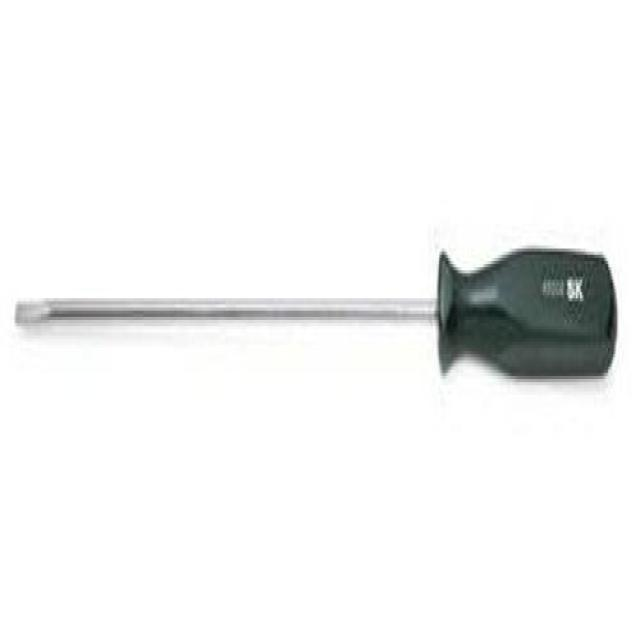screw driver: (5, 210, 640, 457)
